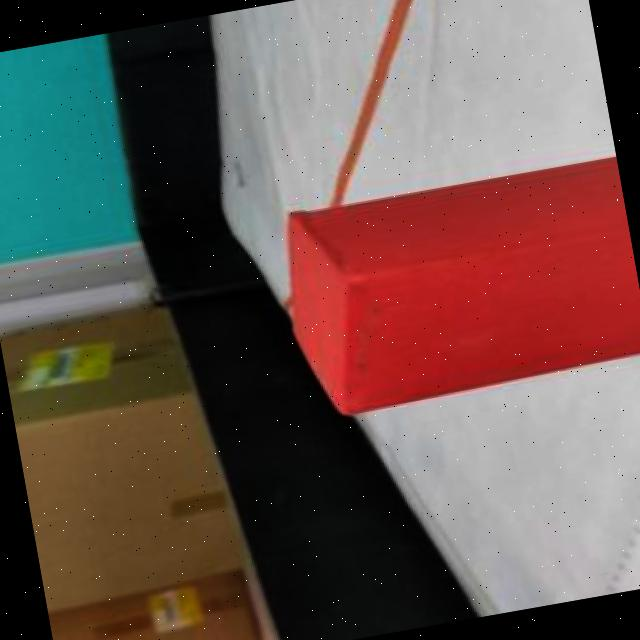redbox: (271, 156, 640, 422)
